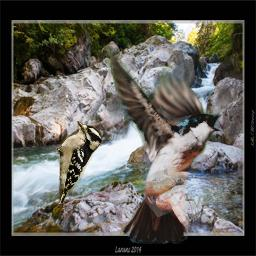Swallow: (102, 43, 223, 244)
Woodpecker: (56, 121, 101, 204)
